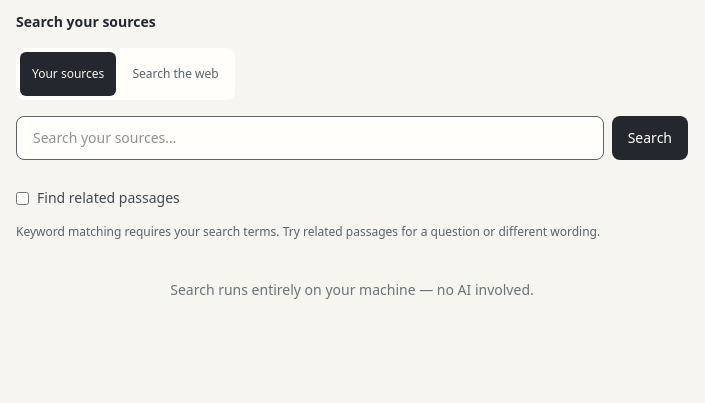
Test case: round8 item4 excerpt dedupe › leaves non-echo snippets untouched
This screenshot has width=705, height=403.
Type "photosynthesis" into the search field with placeholder "Search your sources…" at (310, 138), box [16, 116, 604, 160]
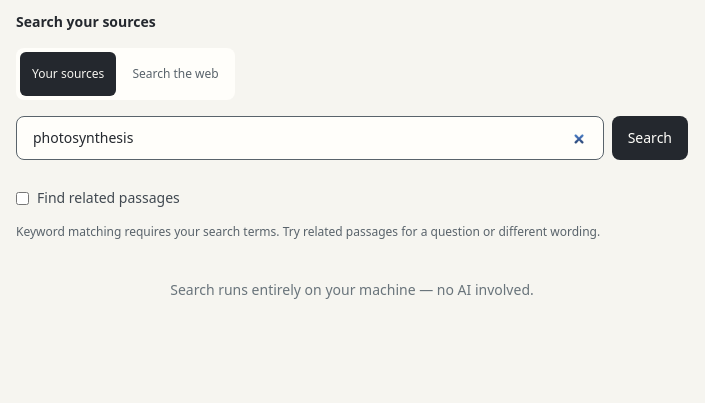
Submit the form with placeholder "search your sources", box [16, 116, 688, 160]
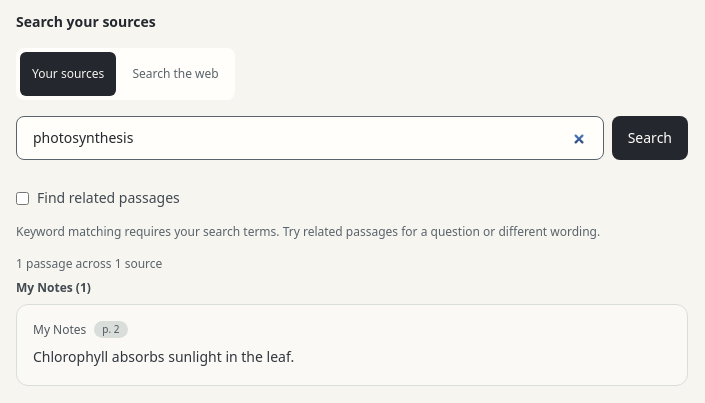
Now the message named "Search result count" is shown, box [16, 255, 162, 272]
Now the text "Chlorophyll absorbs sunlight in the leaf." is shown, box [33, 347, 294, 366]
